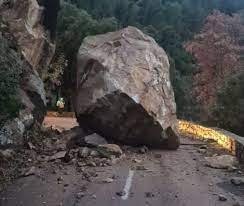obstacle: (75, 27, 184, 150)
